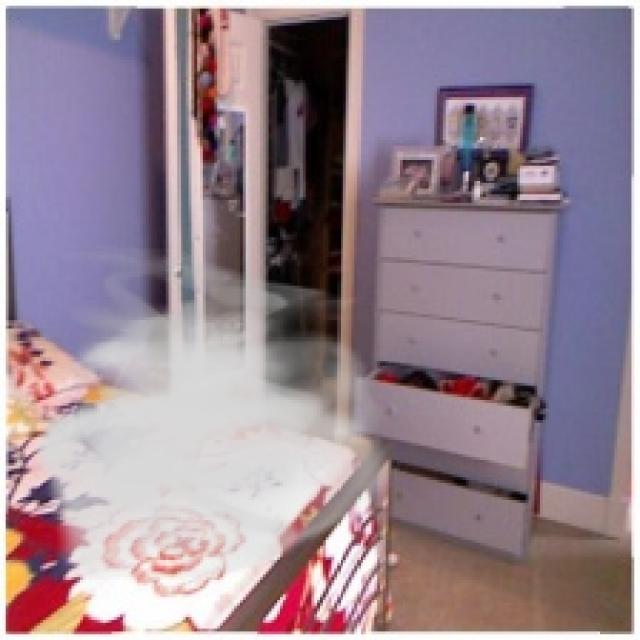smoke: (31, 243, 400, 591)
